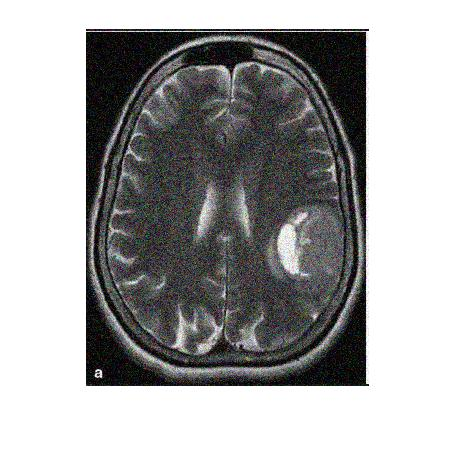Brain_Cancer: (276, 194, 350, 281)
